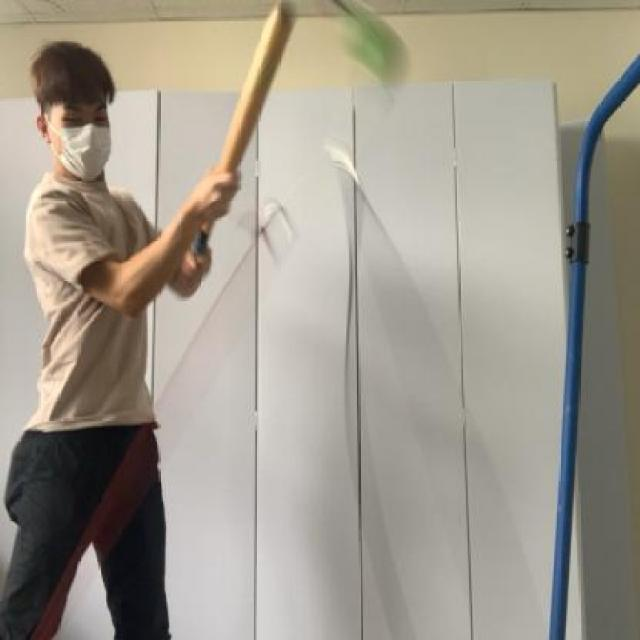baseball: (333, 0, 413, 94)
